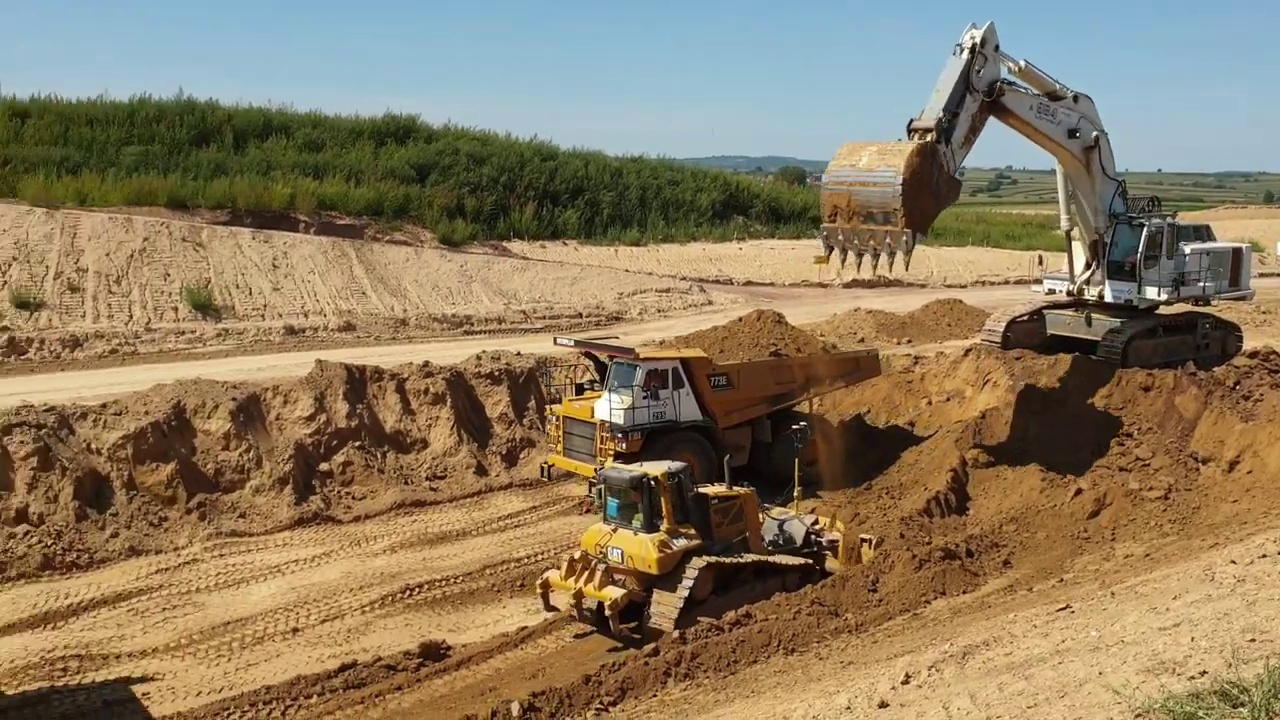bulldozer: (539, 458, 884, 644)
dumper: (541, 335, 883, 483)
excavator: (819, 22, 1257, 377)
